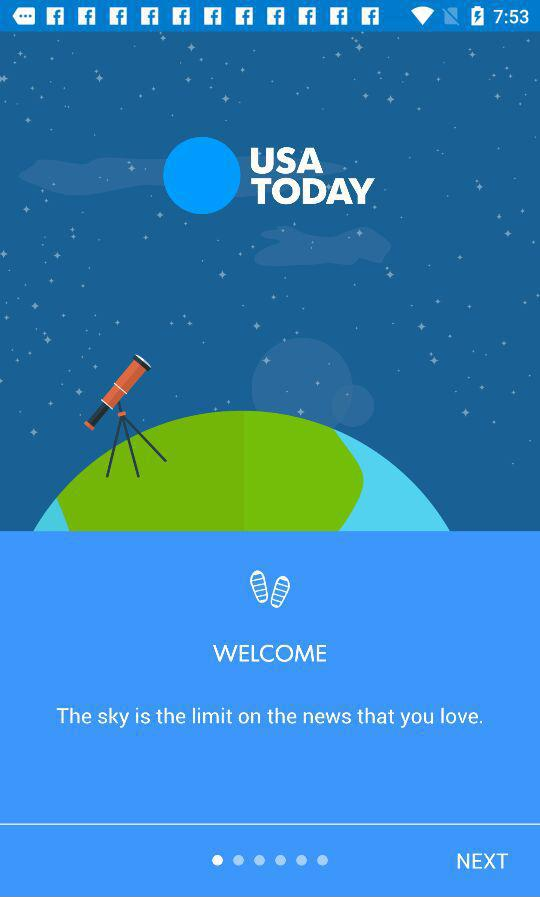Image: (1, 33, 540, 532), (162, 136, 377, 217), (249, 570, 292, 609)
PageIndicator: (211, 853, 330, 868)
Text: (57, 706, 483, 729), (213, 644, 328, 664), (456, 851, 510, 871)
UpperTaskBar: (1, 1, 540, 33)
